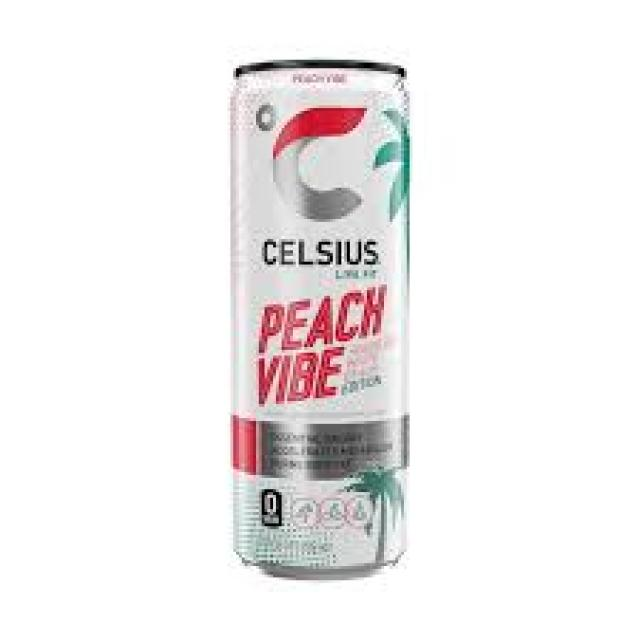Cans: (216, 40, 424, 583)
